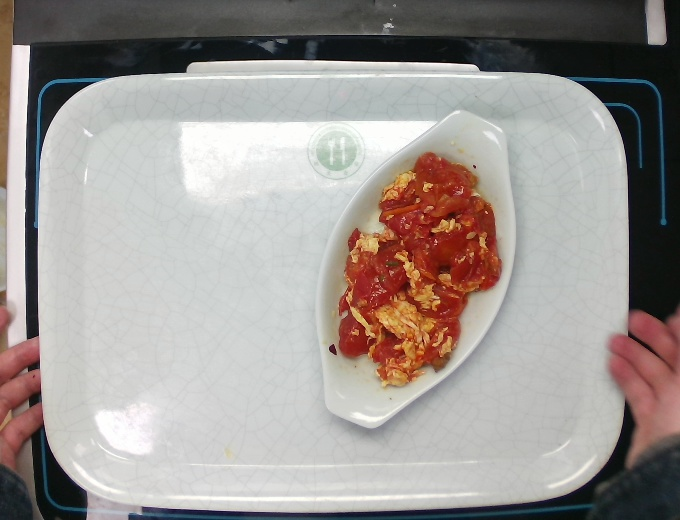JYsf-Yu_Pan: (306, 106, 521, 428)
